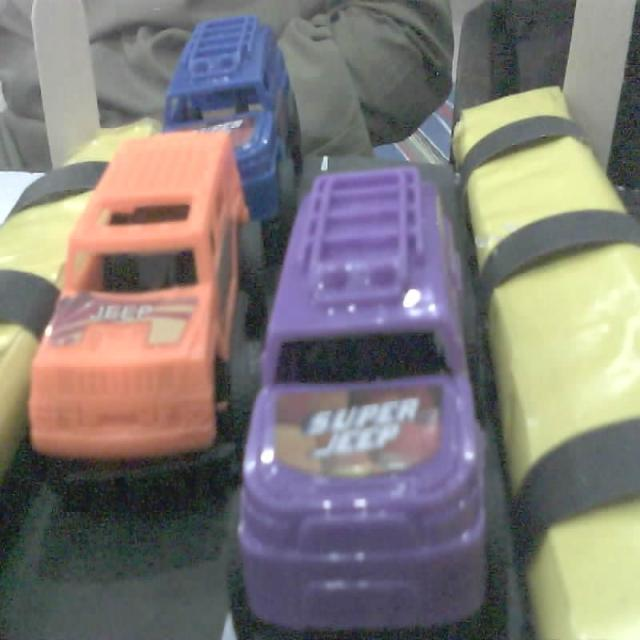ThreeCar: (225, 152, 517, 622), (21, 132, 265, 496), (157, 10, 312, 244)
